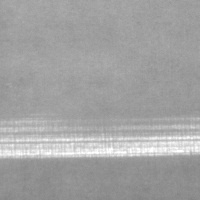scratches: (0, 129, 198, 158)
